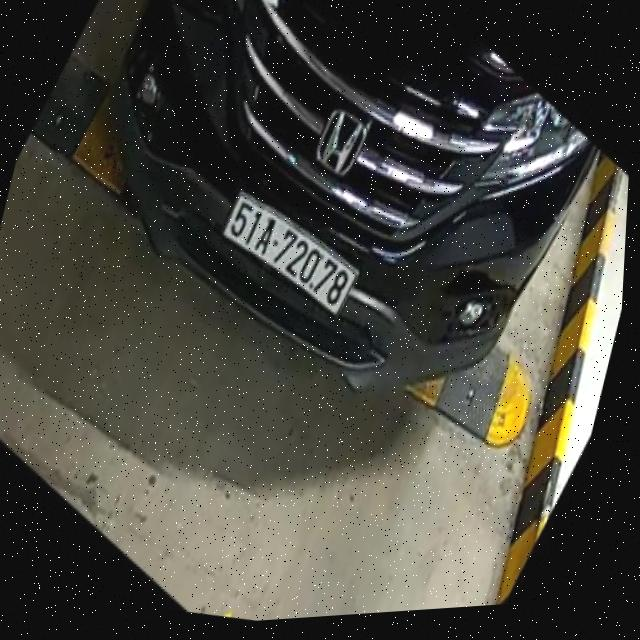car: (35, 0, 638, 457)
plate: (202, 175, 381, 333)
